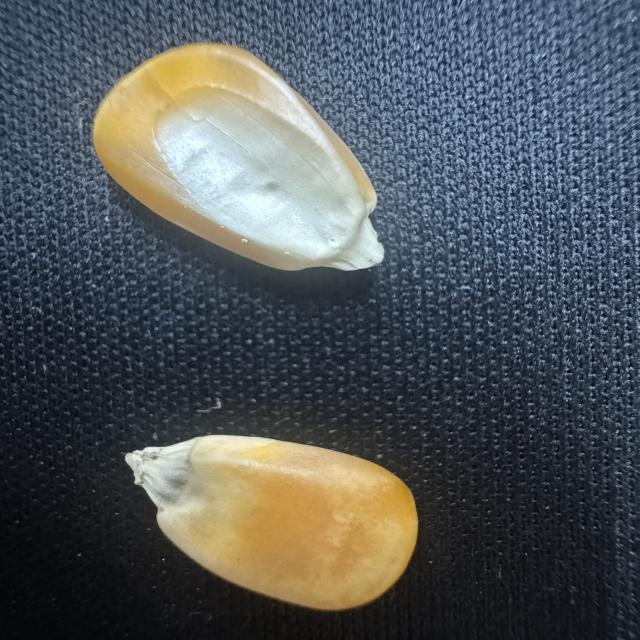Good-Seed: (85, 36, 392, 279), (119, 428, 427, 615)
